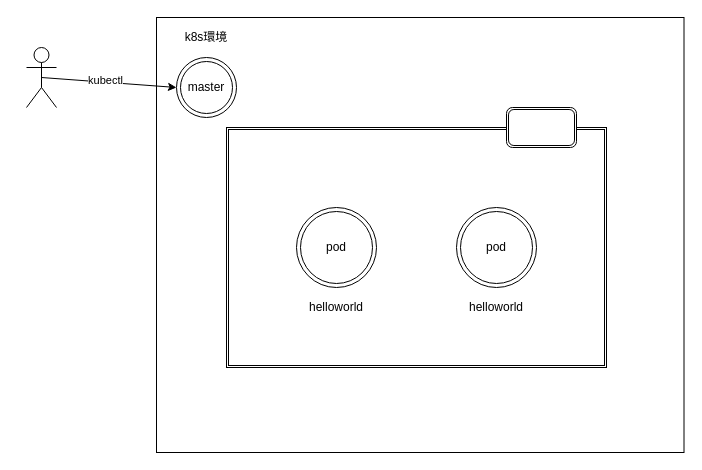
Image size: 702x470. Some labels were removed from this diagram. The centre of each missing label's shape, as x and y in pixels:
"macbook" goes at (x=41, y=77).
"port 8080" goes at (x=541, y=127).
